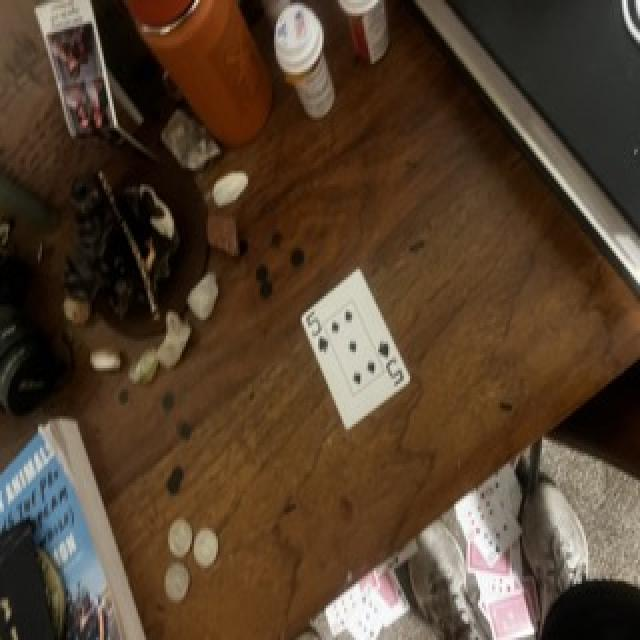5 of spades: (301, 268, 410, 428)
